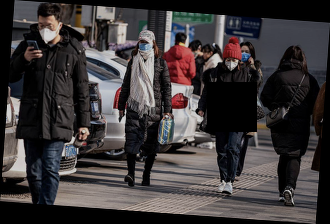with_mask: (37, 21, 59, 46), (225, 57, 239, 72), (240, 48, 252, 63), (138, 41, 153, 52)
